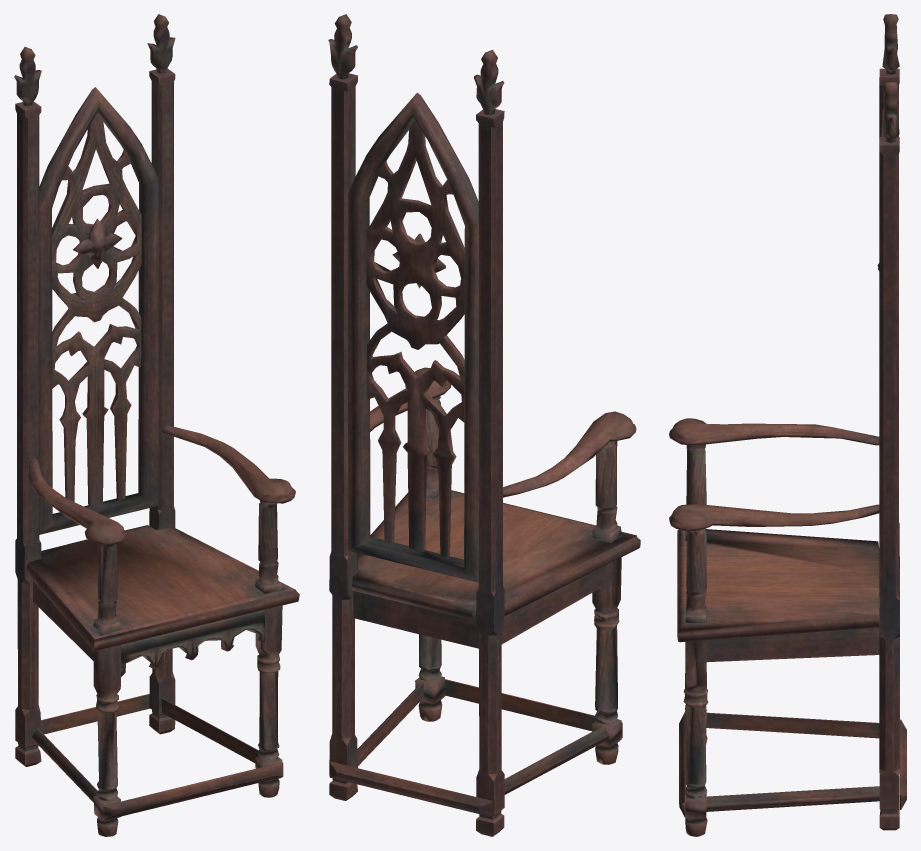
File: woodenchair_01.glb
The picture shows the model from 3 angles, left to right: view 1: azimuth 30°, elevation 25°; view 2: azimuth 150°, elevation 25°; view 3: azimuth 270°, elevation 25°; orthographic projection. The views are drawn at different scales.
Parts seen in each view (by area): view 1: WoodenChair_01; view 2: WoodenChair_01; view 3: WoodenChair_01.
Boxes of the visible parts, x1,y1,x2,y2 form: WoodenChair_01: (14,14,299,836); WoodenChair_01: (328,14,640,836); WoodenChair_01: (669,14,906,836).
Size of the model in its own units: 0.6872 by 2.27 by 0.6575.
1 material, 1 textured.
